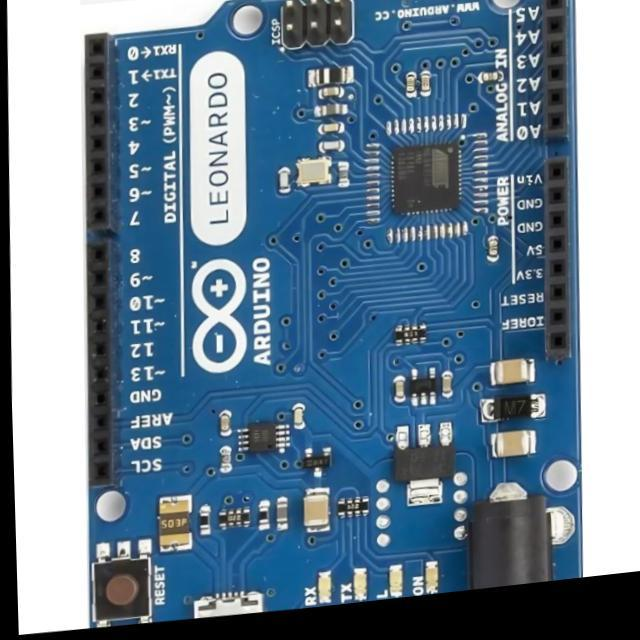Arduino-leonardo: (85, 1, 582, 627)
